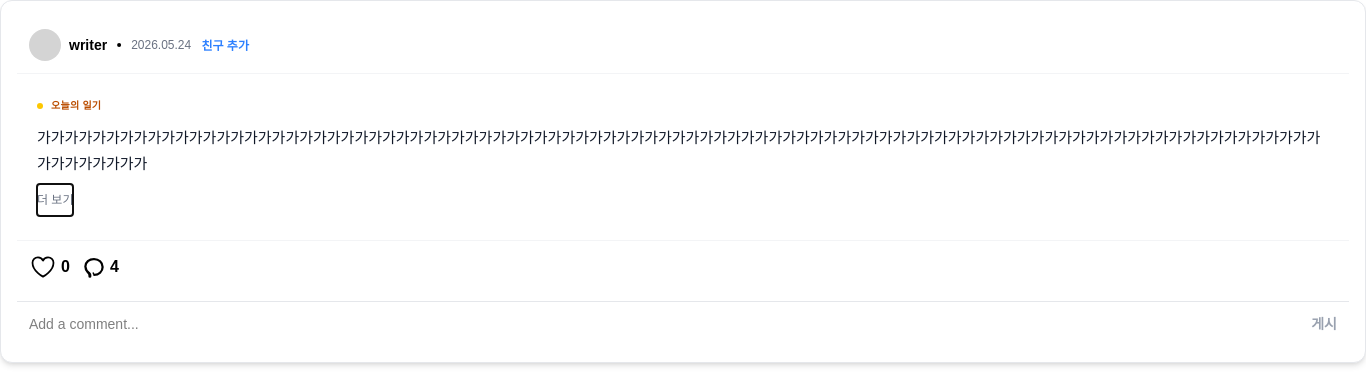
Scenario: FeedCard 사진 없는 일기 › 100자를 넘는 본문을 더 보기로 카드 안에서 펼친다
The width and height of the screenshot is (1366, 384).
Step 1. Click the button "더 보기" → click(55, 200), box 37,184 -> 74,216
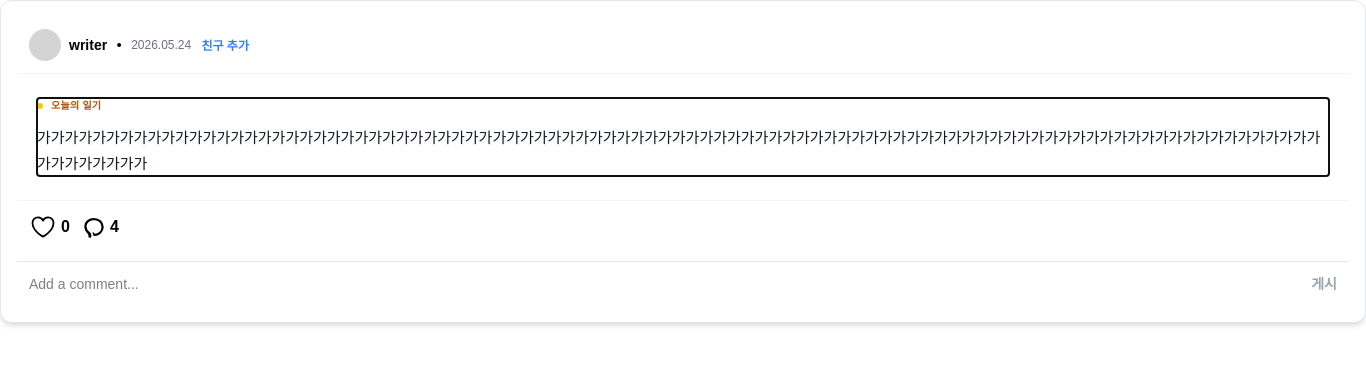
expect the button "더 보기" is gone: met
